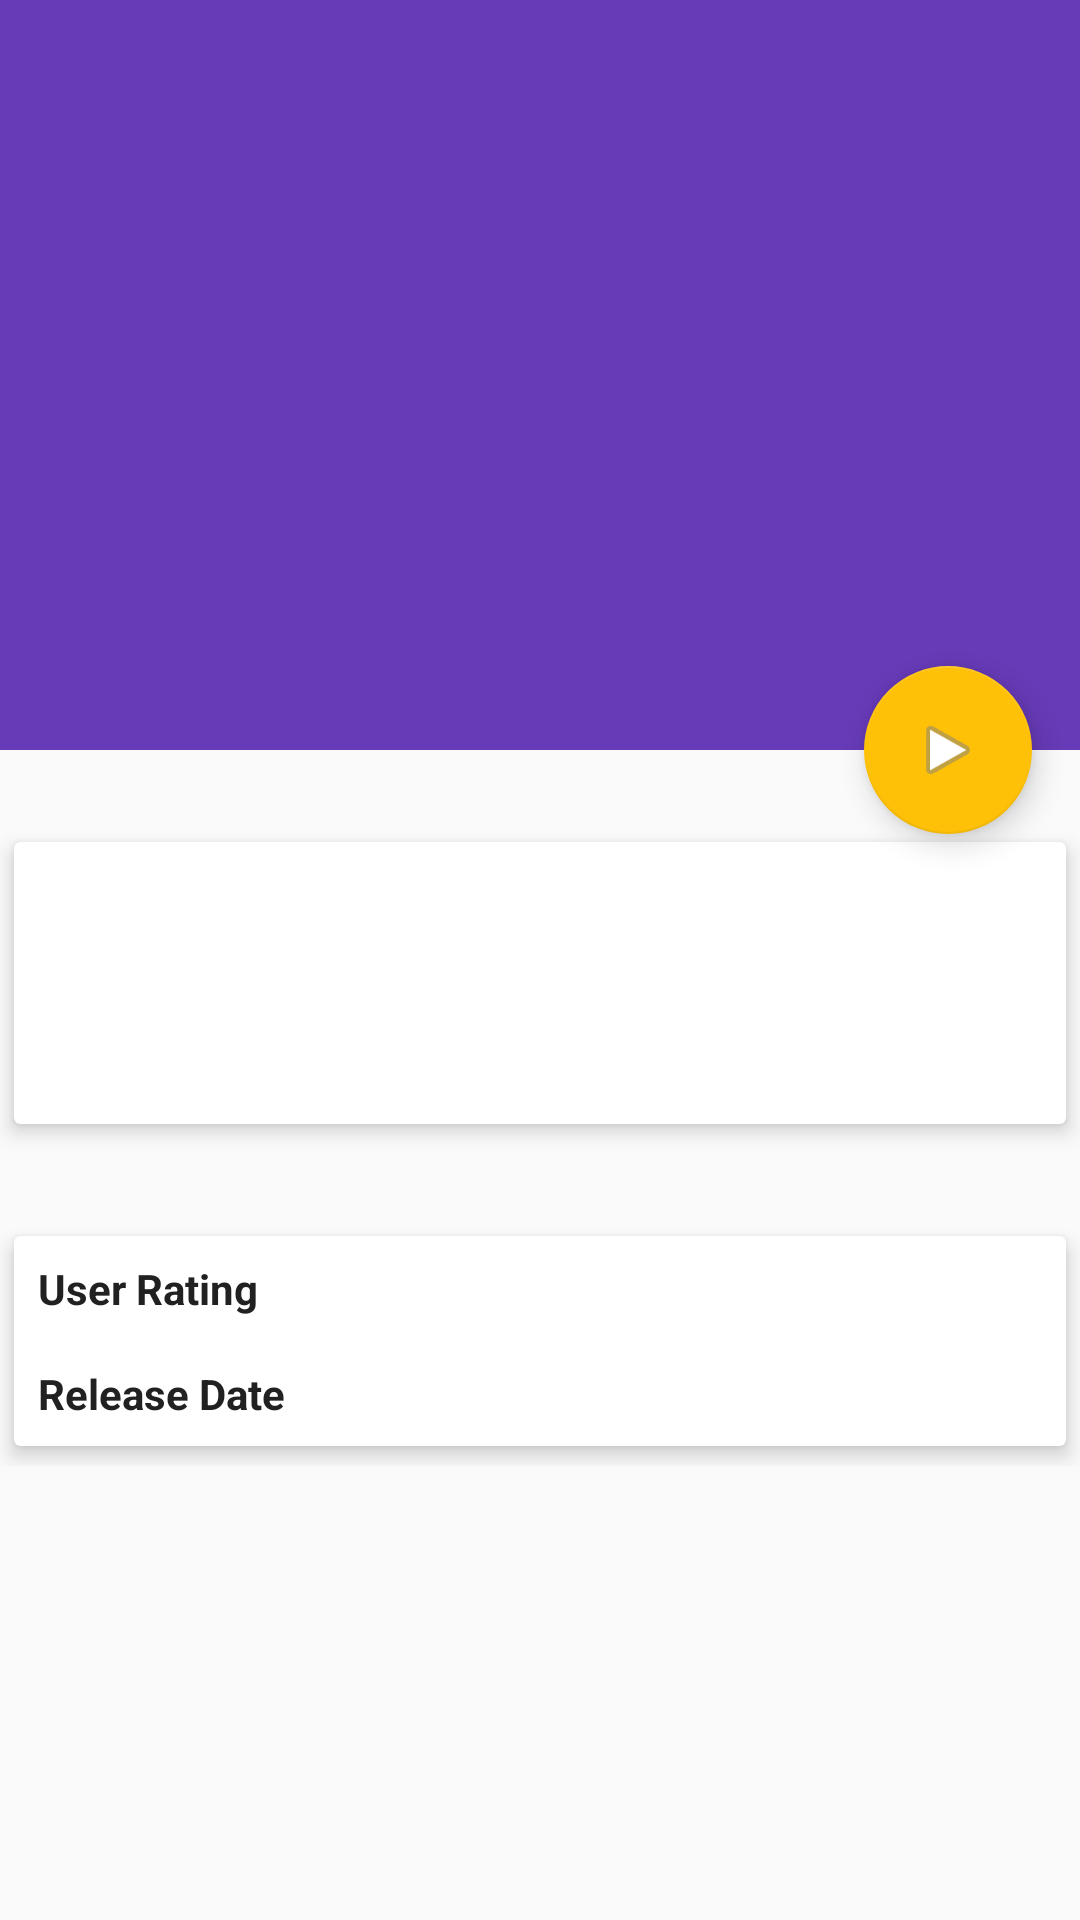

Named icons in this screenshot (1080px×1920px) and their centers, point (x, y):
play: point (948, 750)
